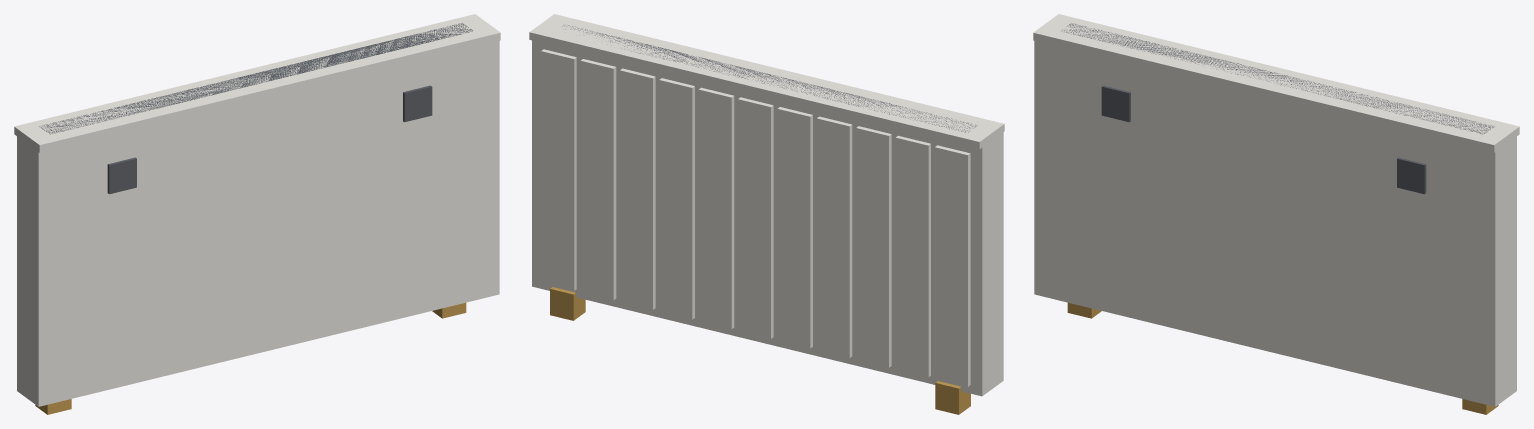
Rendered from FN_Radiator_Panel.glb.
The picture shows the model from 3 angles, left to right: view 1: azimuth 30°, elevation 25°; view 2: azimuth 150°, elevation 25°; view 3: azimuth 330°, elevation 25°; orthographic projection. The views are drawn at different scales.
Visible parts, largest first — view 1: FN_Radiator_Panel; view 2: FN_Radiator_Panel; view 3: FN_Radiator_Panel.
Boxes of the visible parts, left/top/right/bottom form: FN_Radiator_Panel: left=14, top=14, right=500, bottom=414; FN_Radiator_Panel: left=529, top=14, right=1004, bottom=414; FN_Radiator_Panel: left=1033, top=14, right=1519, bottom=414.
Size of the model in its own units: 1 by 0.596 by 0.098.
Materials: 1 (1 with a texture image).
